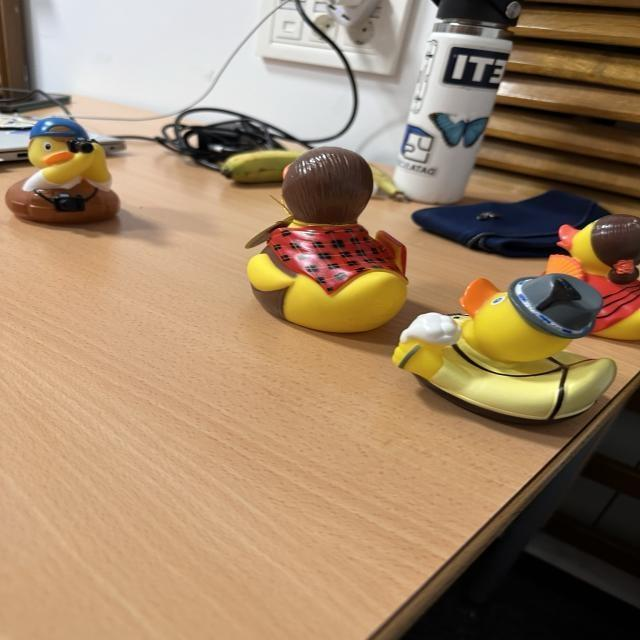rubber-duck: (392, 273, 614, 420), (246, 146, 405, 331), (4, 116, 118, 222)
